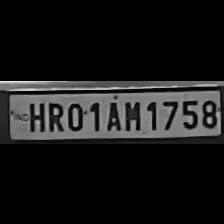0: (64, 98, 84, 132)
1: (84, 97, 102, 131), (142, 97, 160, 130)
5: (178, 95, 198, 129)
7: (158, 96, 178, 130)
8: (198, 96, 218, 128)
A: (103, 97, 123, 130)
H: (24, 98, 44, 132)
M: (122, 97, 142, 131)
R: (44, 98, 64, 132)
